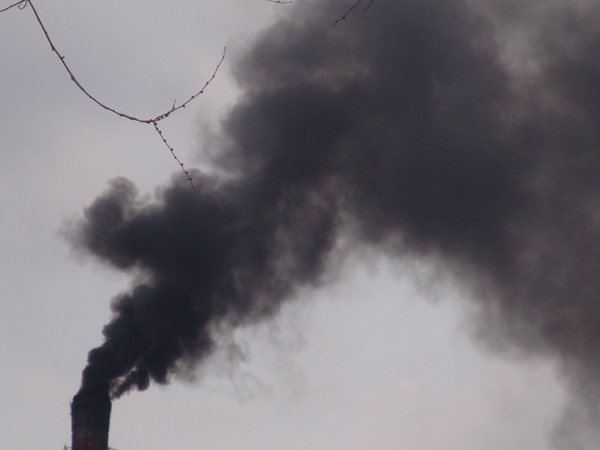dust: (44, 218, 239, 397)
